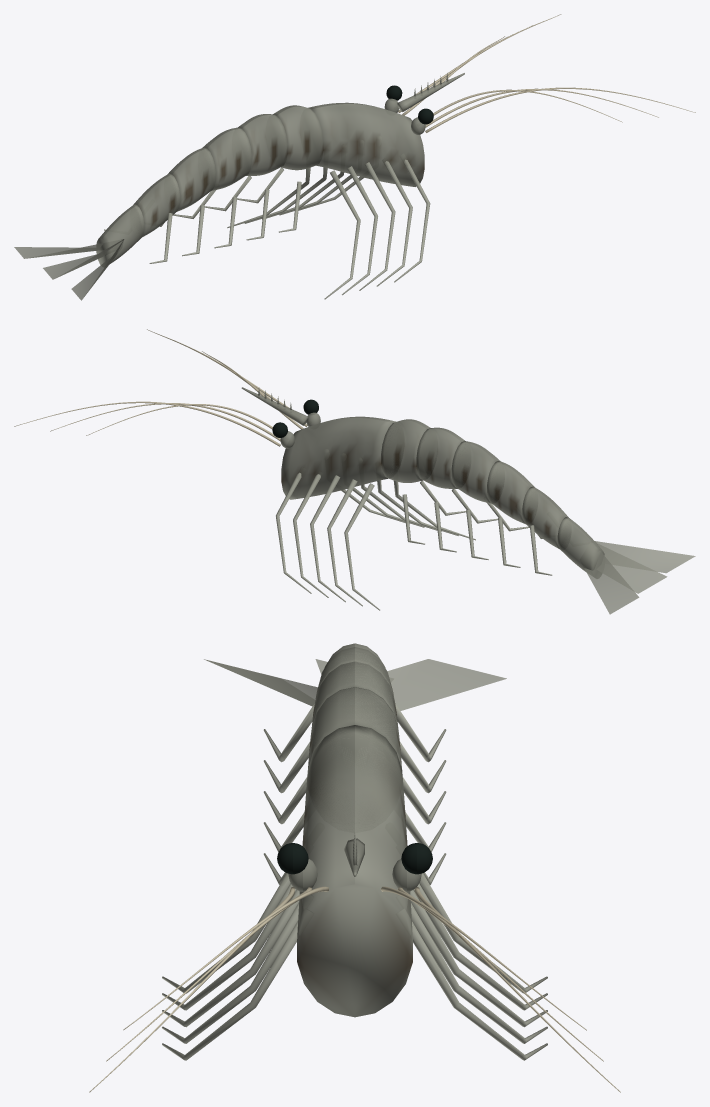
The model's file is amanoshrimp-desktop.glb.
3 renders of one model, top to bottom at view 1: azimuth 30°, elevation 25°; view 2: azimuth 150°, elevation 25°; view 3: azimuth 270°, elevation 25°, orthographic. The views are drawn at different scales.
Visible parts, largest first — view 1: carapace, pereiopod, antenna, pleopod, serrated-rostrum; view 2: carapace, pereiopod, antenna, pleopod, serrated-rostrum; view 3: carapace, pereiopod, pleopod, antenna, eye, eye-stalk.
Part boxes in pixels (left/top/right/bottom): carapace: left=14, top=102, right=424, bottom=300; pereiopod: left=227, top=136, right=430, bottom=299; antenna: left=398, top=14, right=695, bottom=132; pleopod: left=104, top=167, right=301, bottom=263; serrated-rostrum: left=397, top=73, right=464, bottom=111; carapace: left=281, top=416, right=695, bottom=614; pereiopod: left=276, top=449, right=475, bottom=610; antenna: left=14, top=329, right=307, bottom=446; pleopod: left=402, top=480, right=552, bottom=575; serrated-rostrum: left=241, top=387, right=308, bottom=425; carapace: left=204, top=643, right=506, bottom=1017; pereiopod: left=162, top=873, right=547, bottom=1060; pleopod: left=263, top=703, right=446, bottom=884; antenna: left=89, top=886, right=620, bottom=1092; eye: left=277, top=843, right=432, bottom=874; eye-stalk: left=288, top=859, right=421, bottom=891.
Size of the model in its own units: 1.18 by 0.2938 by 0.4706.
